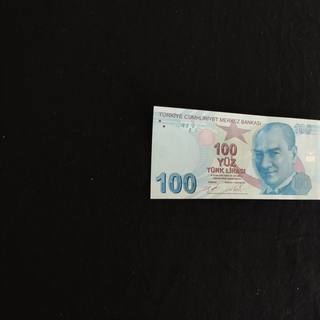100TLFront: (149, 104, 320, 201)
